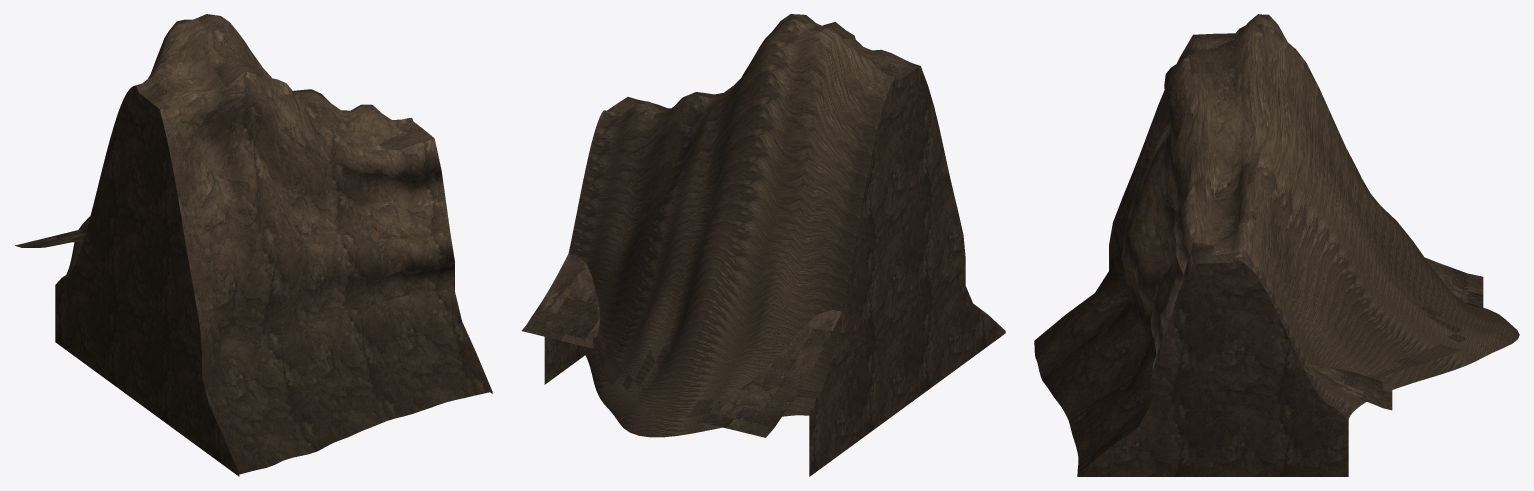
Rendered from seacliff_step_h5h3_v5_dead.glb.
The picture shows the model from 3 angles, left to right: view 1: azimuth 30°, elevation 25°; view 2: azimuth 150°, elevation 25°; view 3: azimuth 270°, elevation 25°; orthographic projection. The views are drawn at different scales.
Parts seen in each view (by area): view 1: seacliff_step_h5h3; view 2: seacliff_step_h5h3; view 3: seacliff_step_h5h3.
Part boxes in pixels (x1,y1,x2,y2): seacliff_step_h5h3: (15,14,492,476); seacliff_step_h5h3: (521,14,1005,476); seacliff_step_h5h3: (1034,14,1519,476).
Size of the model in its own units: 6 by 7.5 by 9.2.
Materials: 2 (2 with a texture image).
